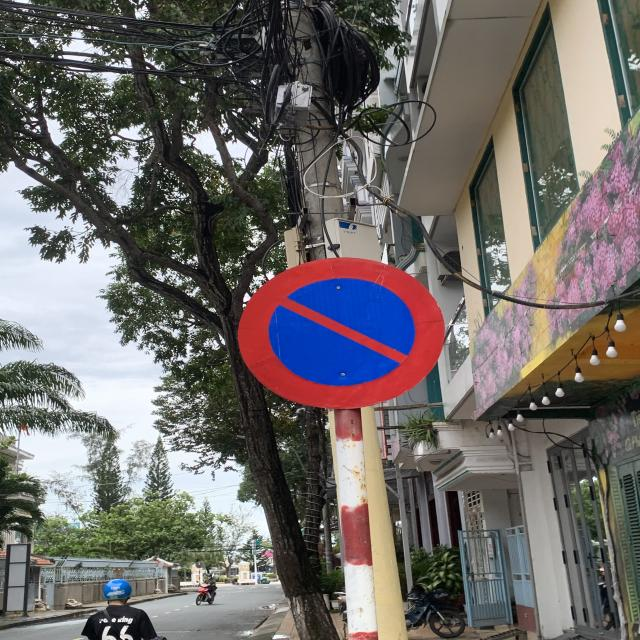Cam_Dau_Xe: (235, 255, 450, 412)
